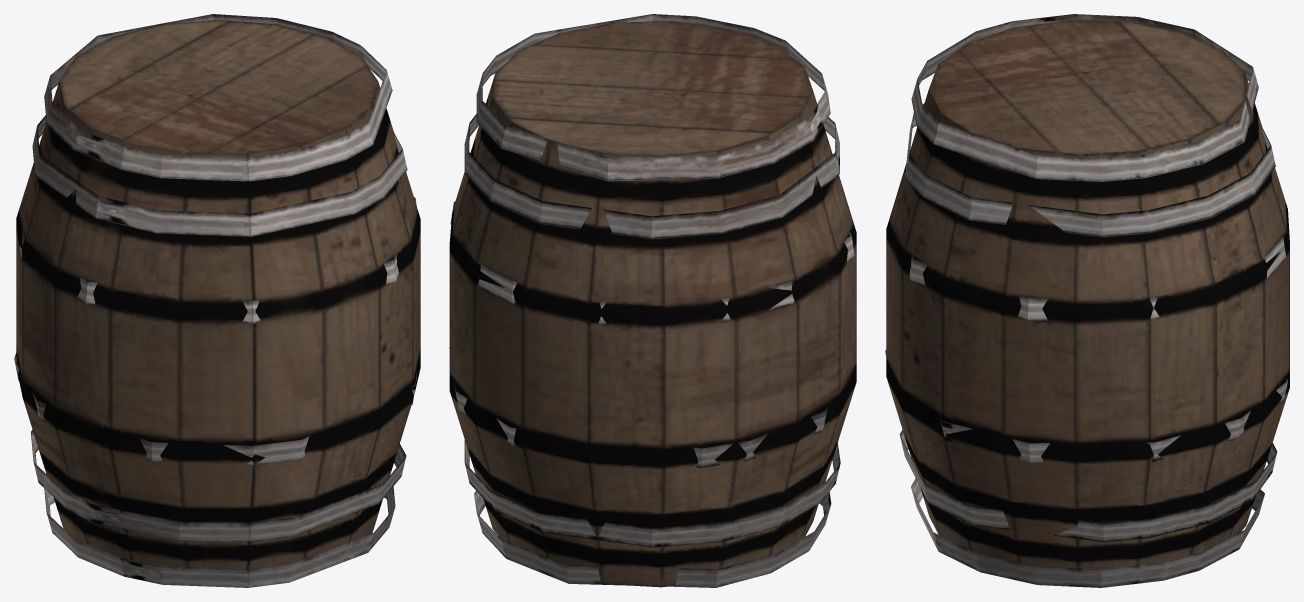
The model's file is barrel5.fbx.
3 views of the same model, side by side, from view 1: azimuth 30°, elevation 25°; view 2: azimuth 150°, elevation 25°; view 3: azimuth 270°, elevation 25° (orthographic).
Parts seen in each view (by area): view 1: barrel5; view 2: barrel5; view 3: barrel5.
Boxes of the visible parts, bbox=[...] form: barrel5: bbox=[14, 14, 420, 587]; barrel5: bbox=[449, 14, 856, 587]; barrel5: bbox=[885, 14, 1289, 587].
Size of the model in its own units: 2.3 by 2.68 by 2.29.
